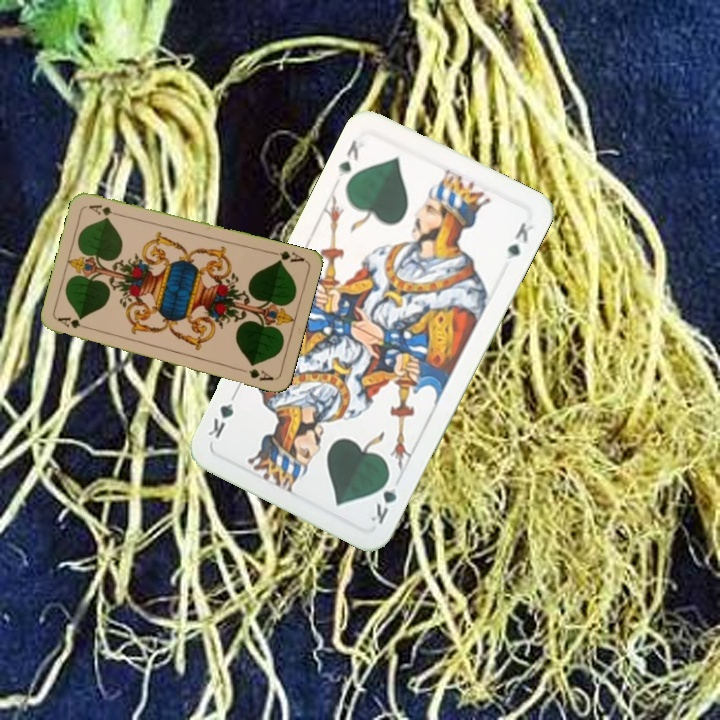GA: (54, 313, 94, 332), (267, 247, 307, 265)
GK: (366, 470, 400, 527), (333, 136, 367, 181)
